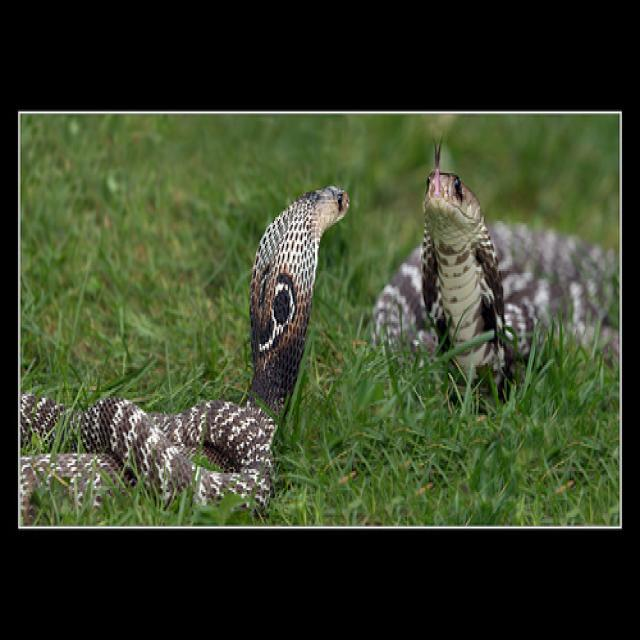Snake: (19, 180, 350, 522), (368, 130, 620, 408)
